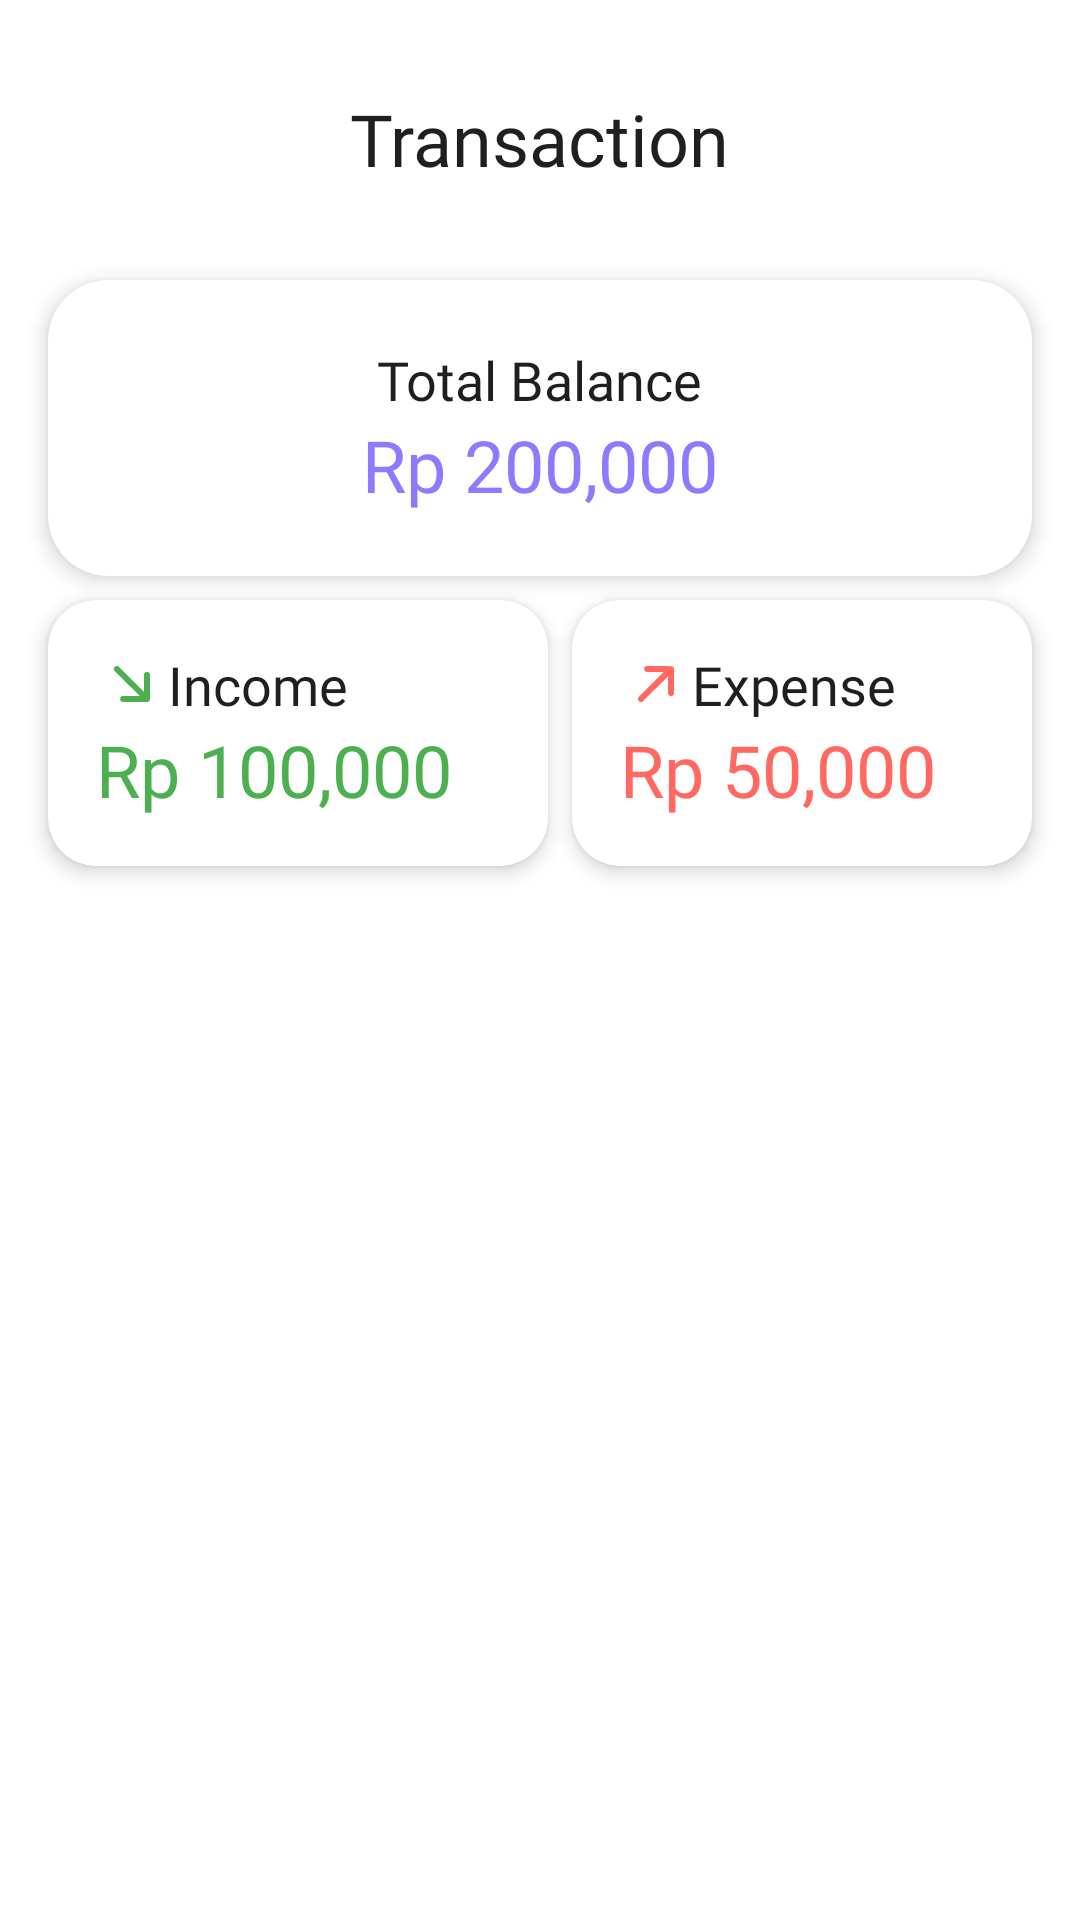

Where icons sit on this 1080*1920 app screen, as (x1, y1, x2, y2):
inc: (114, 666, 150, 702)
